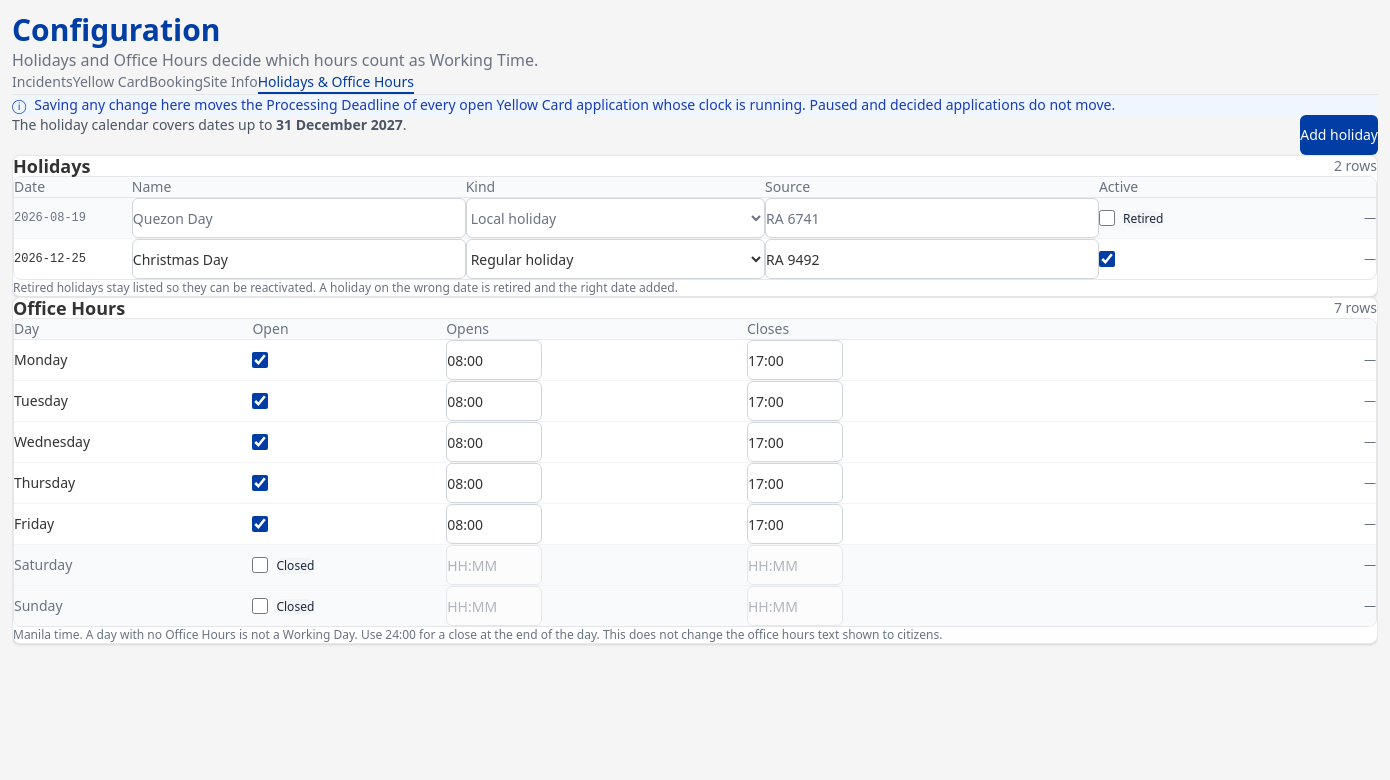
Test case: CalendarView — Holidays › says Not found when a stale screen edits a holiday that is gone
This screenshot has width=1390, height=780.
Replace the text in the field named "2026-12-25 name" with "Pasko" at (299, 259), box [132,239,466,279]
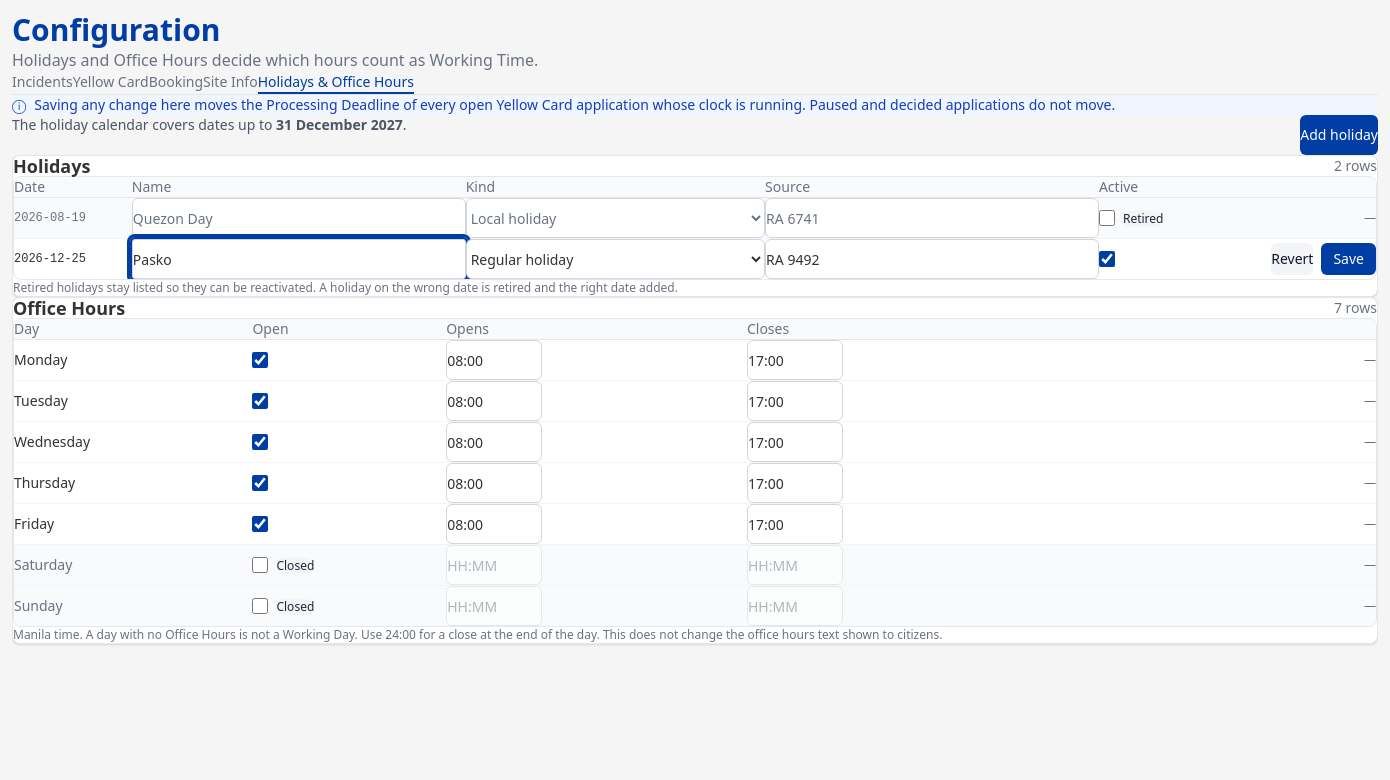
Click the button "Save".
click(1349, 259)  # box [1321,243,1376,275]
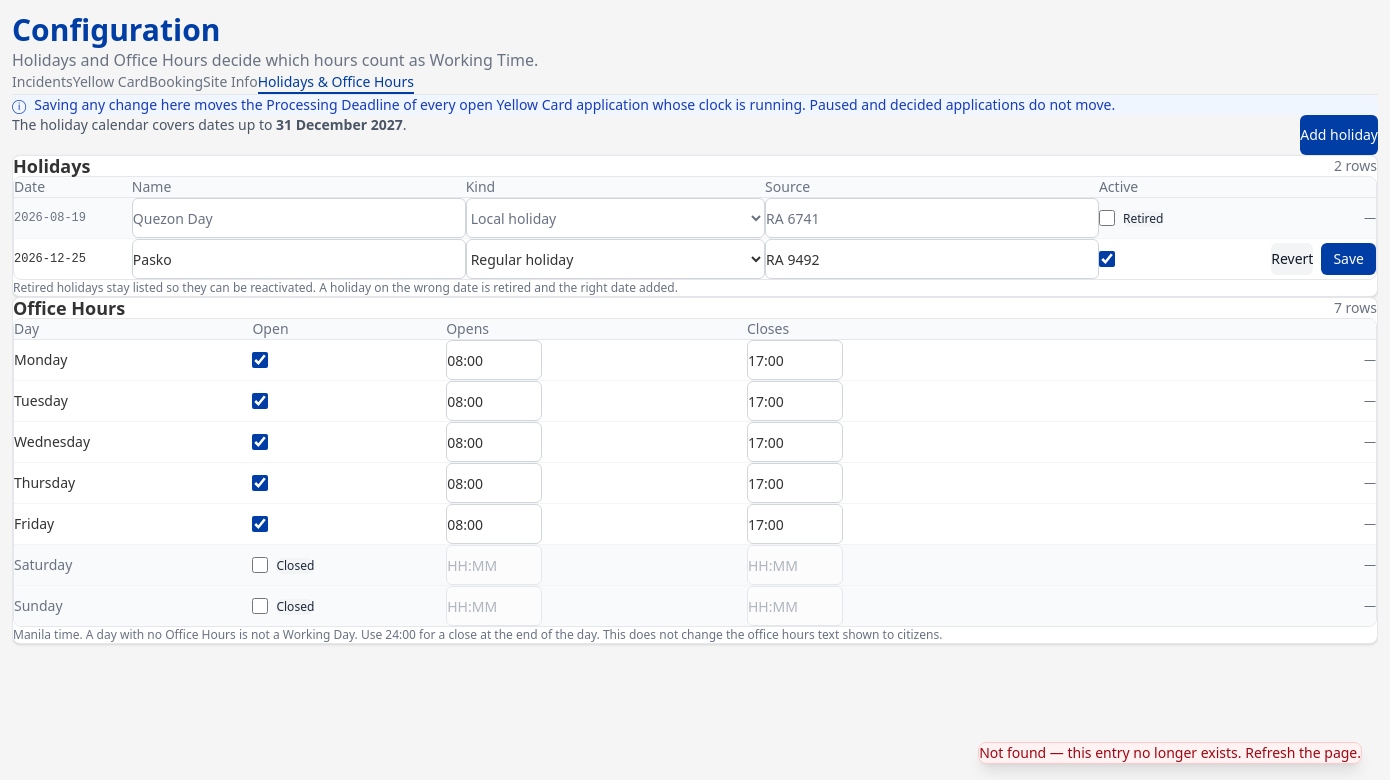
Now the message shows "Not found", box [979,743,1361,762]
